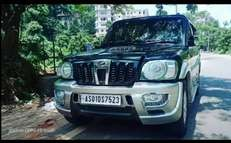AS01DS7523: (80, 94, 120, 104)
